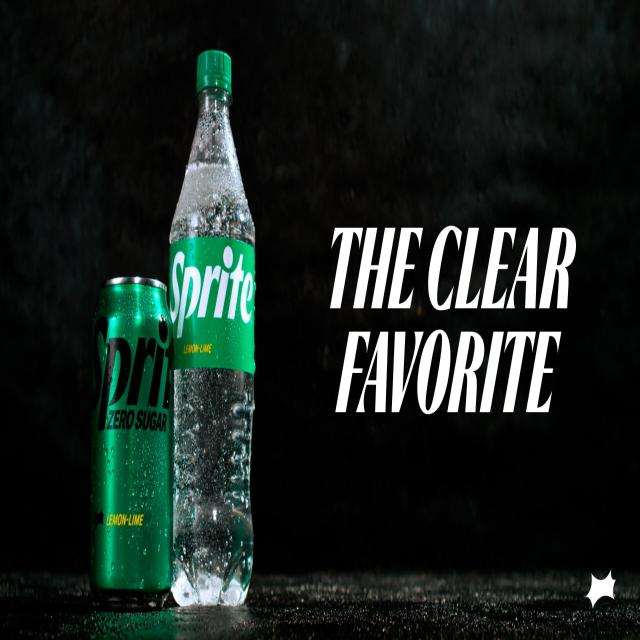sprite: (80, 257, 182, 604)
